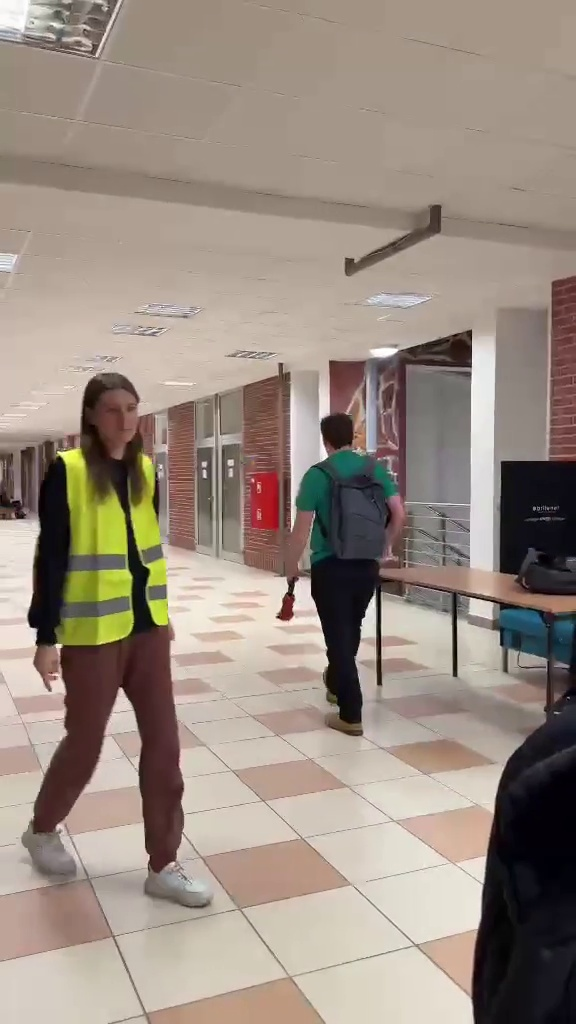no vest: (288, 402, 414, 748)
vest: (33, 367, 209, 900)
